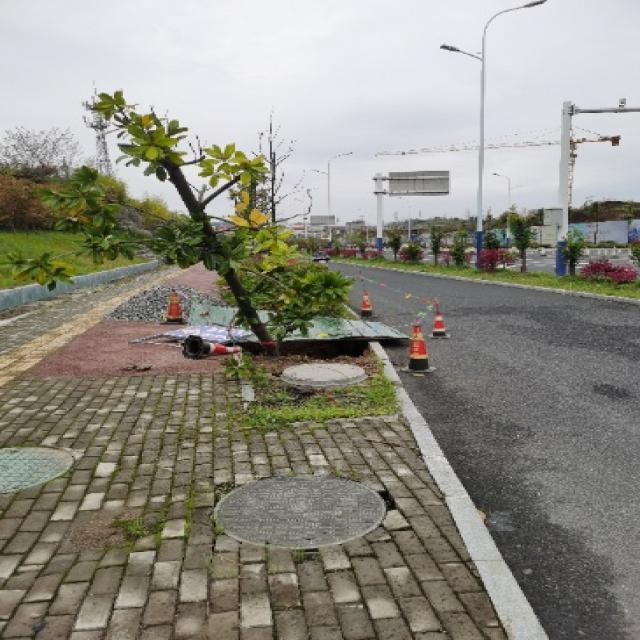Good: (202, 474, 398, 552), (0, 434, 86, 500)
